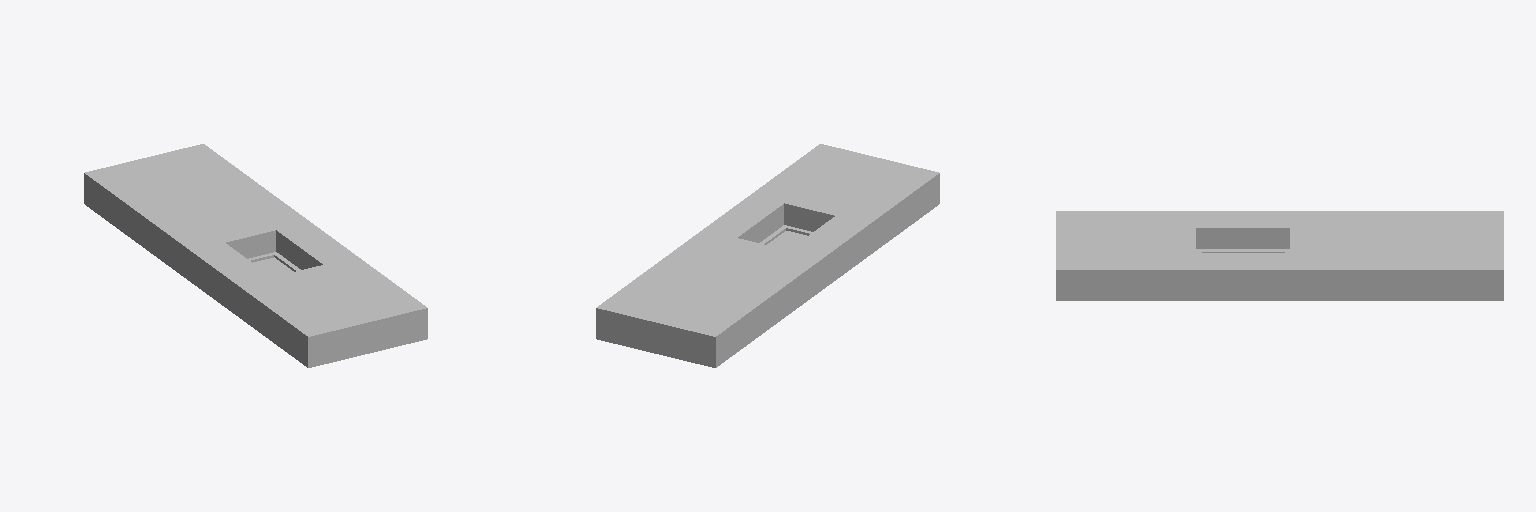
File: Project1.obj
The picture shows the model from 3 angles: view 1: azimuth 30°, elevation 25°; view 2: azimuth 150°, elevation 25°; view 3: azimuth 270°, elevation 25°; orthographic projection.
Parts seen in each view (by area): view 1: product-83f871d1-8706-4bb9-9990-3b0720b4e21d-body, product-83f871d1-8706-4bb9-9990-3b0720b4e2f3-body; view 2: product-83f871d1-8706-4bb9-9990-3b0720b4e21d-body, product-83f871d1-8706-4bb9-9990-3b0720b4e2f3-body; view 3: product-83f871d1-8706-4bb9-9990-3b0720b4e21d-body, product-83f871d1-8706-4bb9-9990-3b0720b4e2f3-body.
Boxes of the visible parts, x1,y1,x2,y2 form: product-83f871d1-8706-4bb9-9990-3b0720b4e21d-body: [84, 144, 427, 367]; product-83f871d1-8706-4bb9-9990-3b0720b4e2f3-body: [218, 227, 330, 279]; product-83f871d1-8706-4bb9-9990-3b0720b4e21d-body: [596, 144, 939, 367]; product-83f871d1-8706-4bb9-9990-3b0720b4e2f3-body: [730, 200, 841, 253]; product-83f871d1-8706-4bb9-9990-3b0720b4e21d-body: [1056, 211, 1503, 300]; product-83f871d1-8706-4bb9-9990-3b0720b4e2f3-body: [1191, 226, 1295, 254].
Size of the model in its own units: 800 by 200 by 2600.